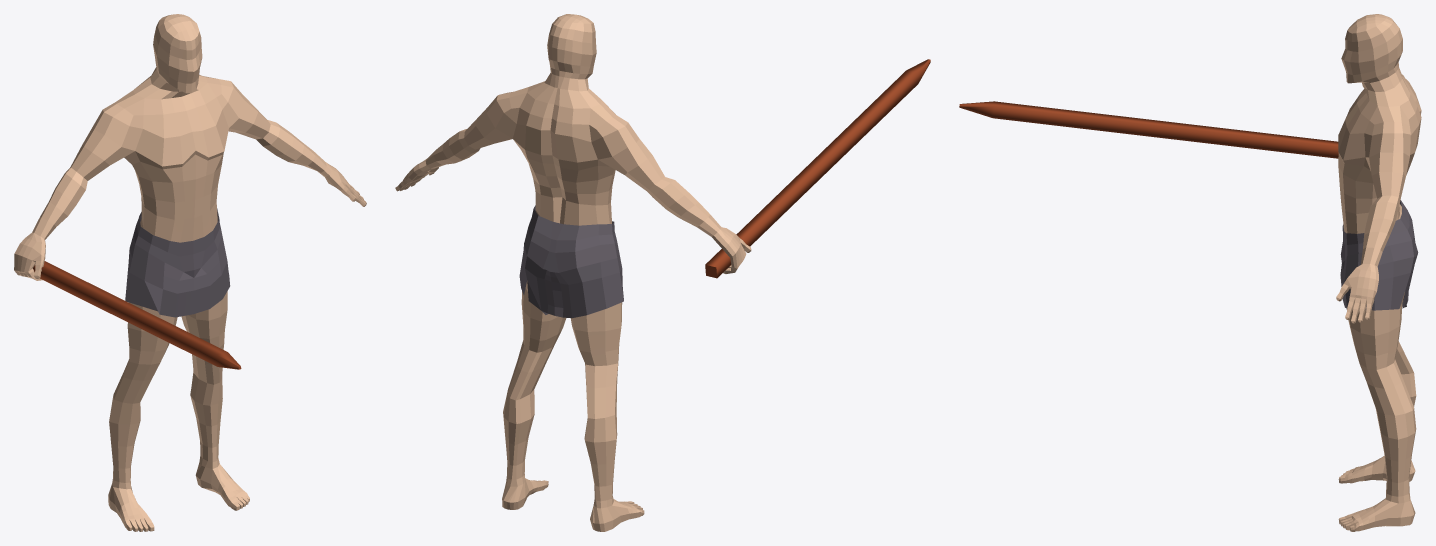
3 renders of one model, left to right at view 1: azimuth 30°, elevation 25°; view 2: azimuth 150°, elevation 25°; view 3: azimuth 270°, elevation 25°, orthographic.
Parts seen in each view (by area): view 1: Cube.005, Body.002; view 2: Cube.005, Body.002; view 3: Cube.005, Body.002.
Boxes of the visible parts, bbox=[...] form: Cube.005: bbox=[14, 14, 366, 531]; Body.002: bbox=[125, 208, 230, 317]; Cube.005: bbox=[395, 14, 930, 531]; Body.002: bbox=[519, 205, 623, 318]; Cube.005: bbox=[959, 14, 1421, 531]; Body.002: bbox=[1340, 200, 1418, 310].
Bounding box in the file's own units: 135 × 184 × 159.
